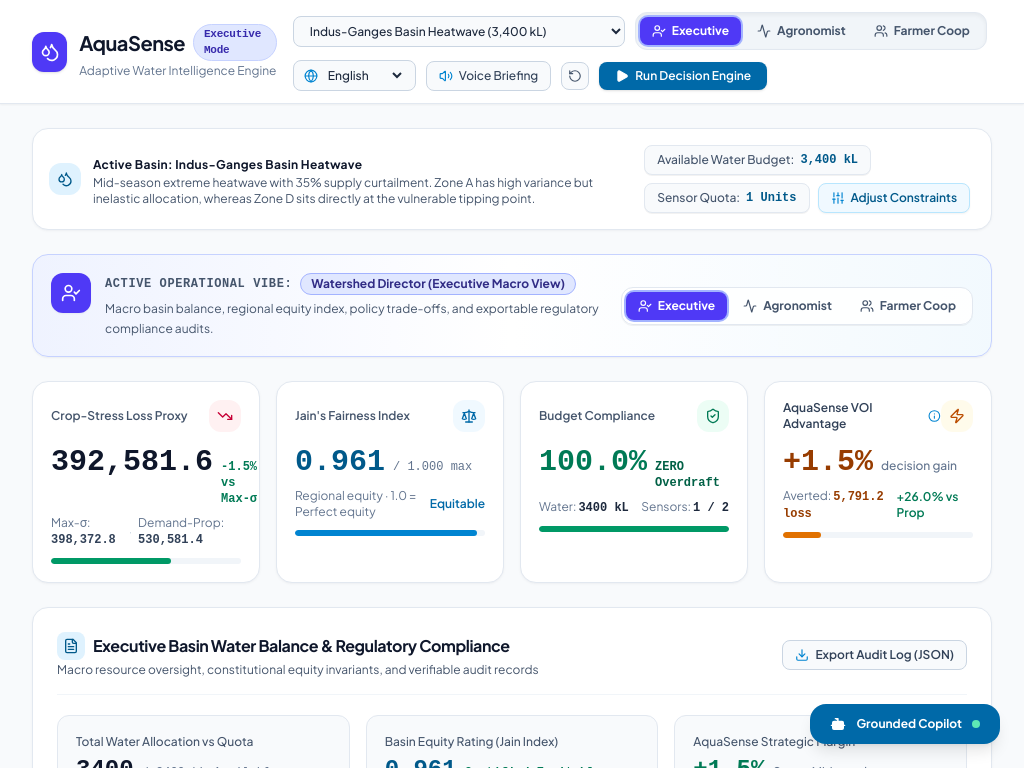
Scenario: App › opens the copilot as a dialog and returns focus on close
Click the button "Grounded Copilot" at coordinates (905, 724), box [810,704,1000,744]
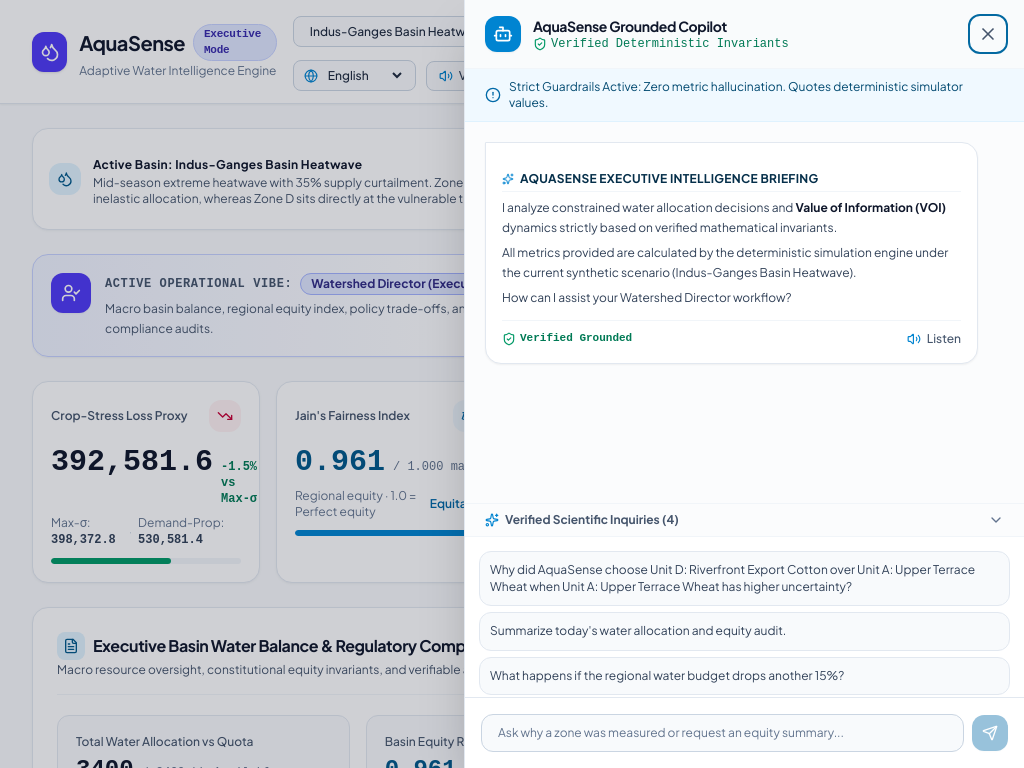
expect the dialog "AquaSense Grounded Copilot" is shown: met, box [464,0,1023,767]
Press Escape
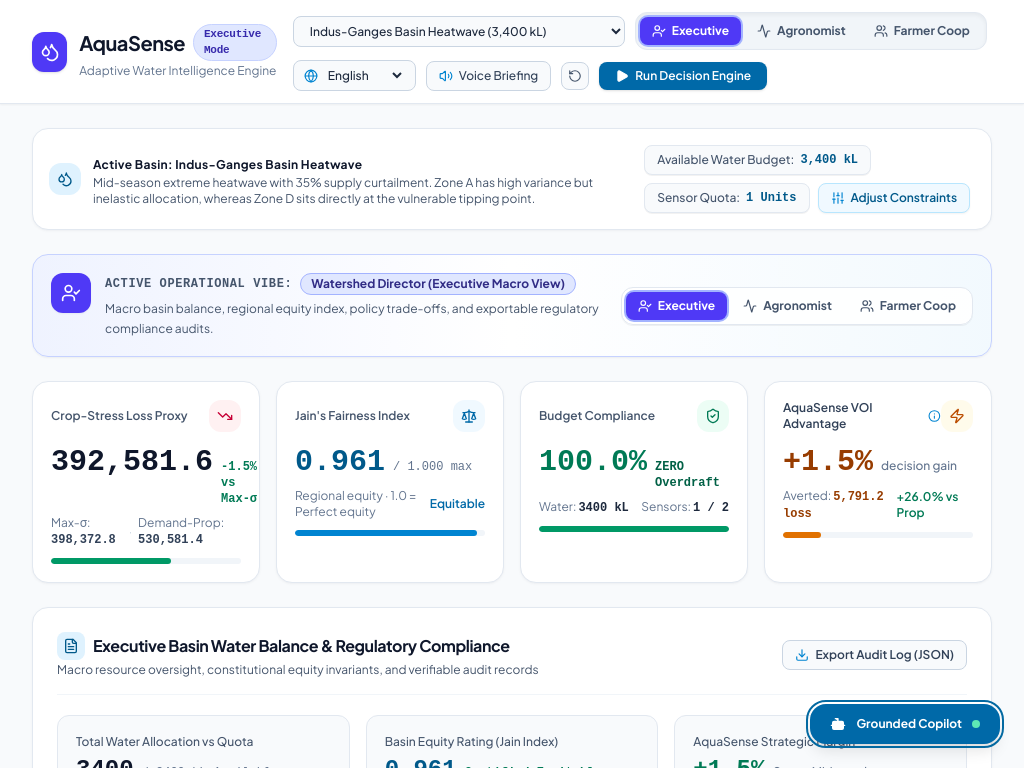
expect the dialog is gone: met
